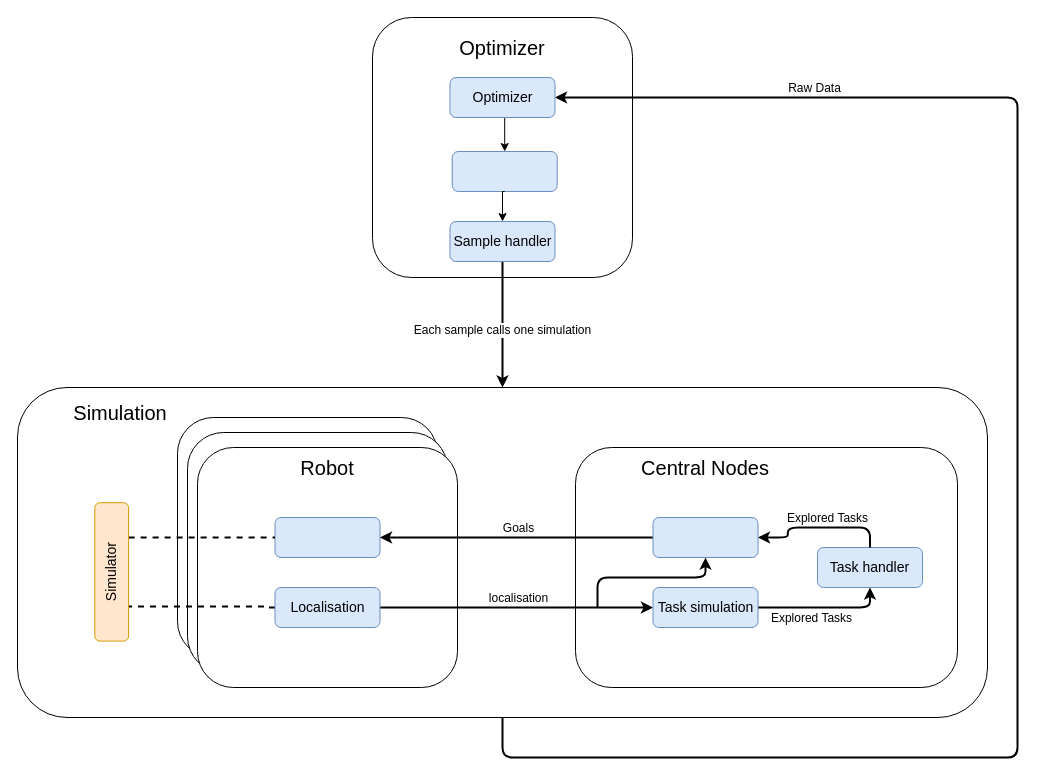
This 1044x784 diagram has some shape labels left out. The centre of each missing label's shape, as x and y in pixels:
"Communicator" belongs at (x=504, y=171).
"Path planer" belongs at (x=327, y=537).
"Policy" belongs at (x=705, y=537).
